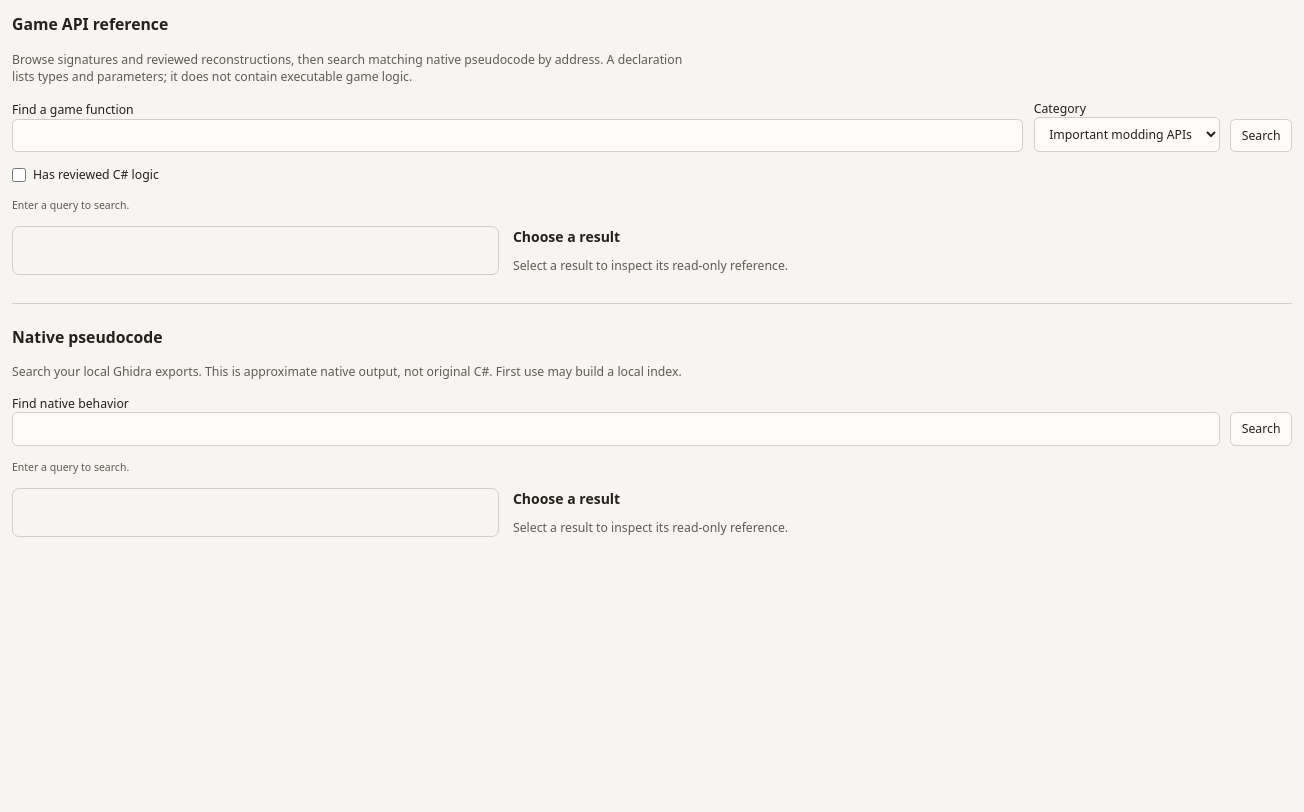
Test: API declaration launches native search at its address
Step 1. Type "FireSliderBoost" into the search field labelled "Find a game function" → (518, 135), box [12,118,1023,152]
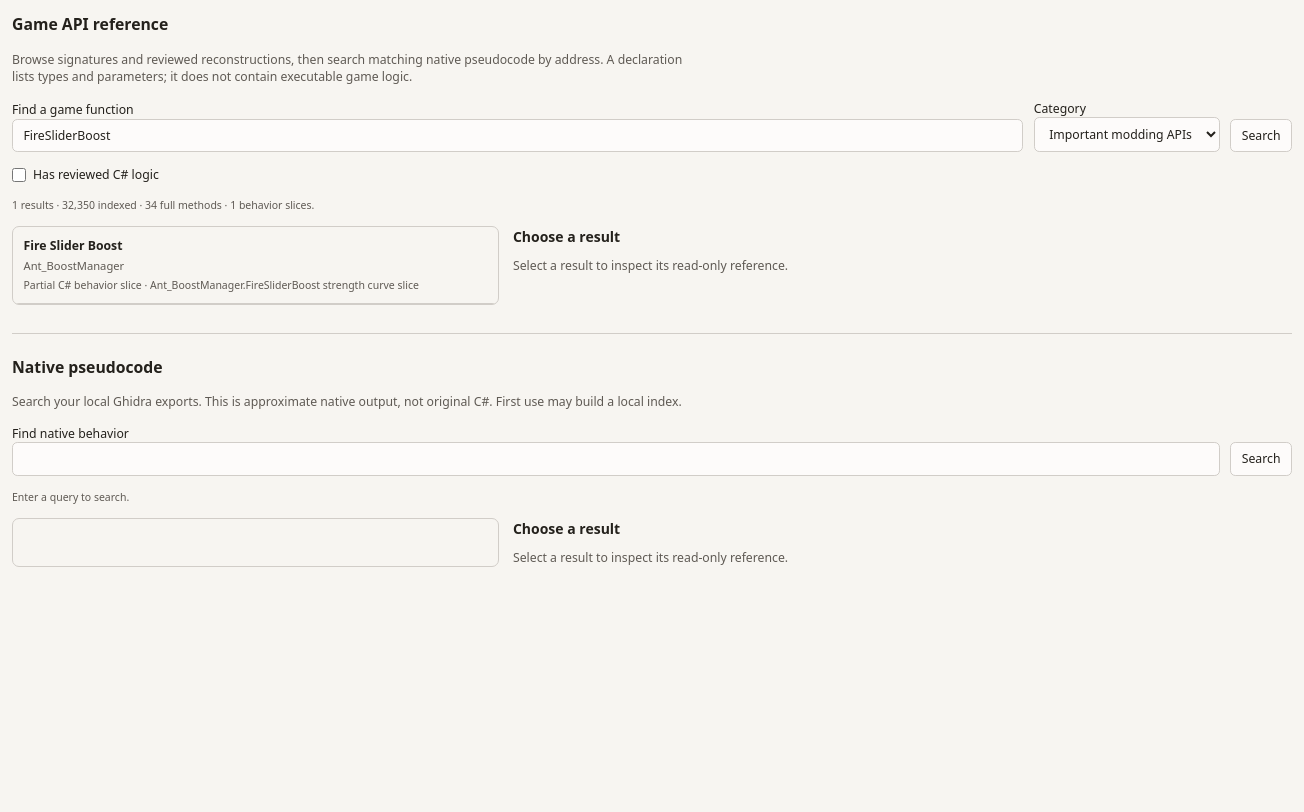
Step 2. Click the text "Fire Slider Boost" → (73, 246), box [24,237,122,254]
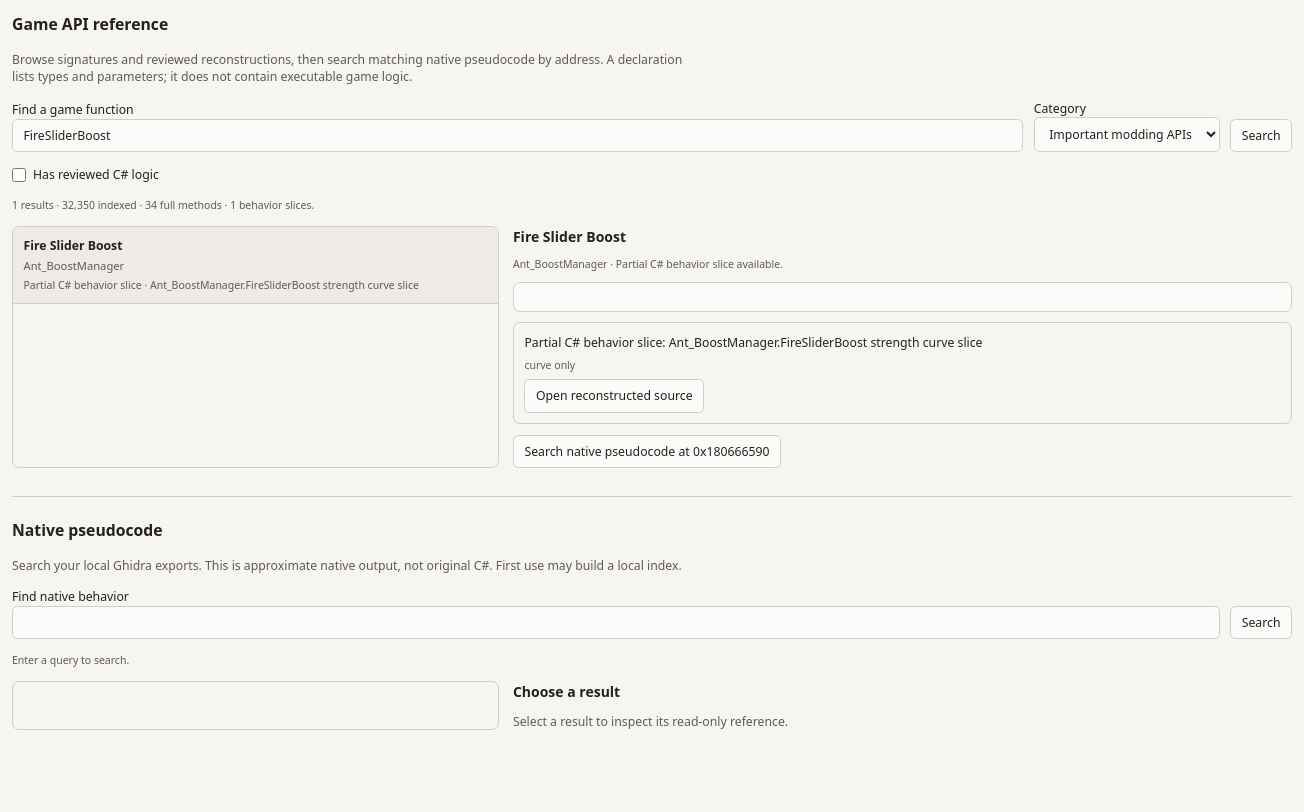
Step 3. Click the button "Search native pseudocode at 0x180666590" → (647, 451), box [513,434,781,468]
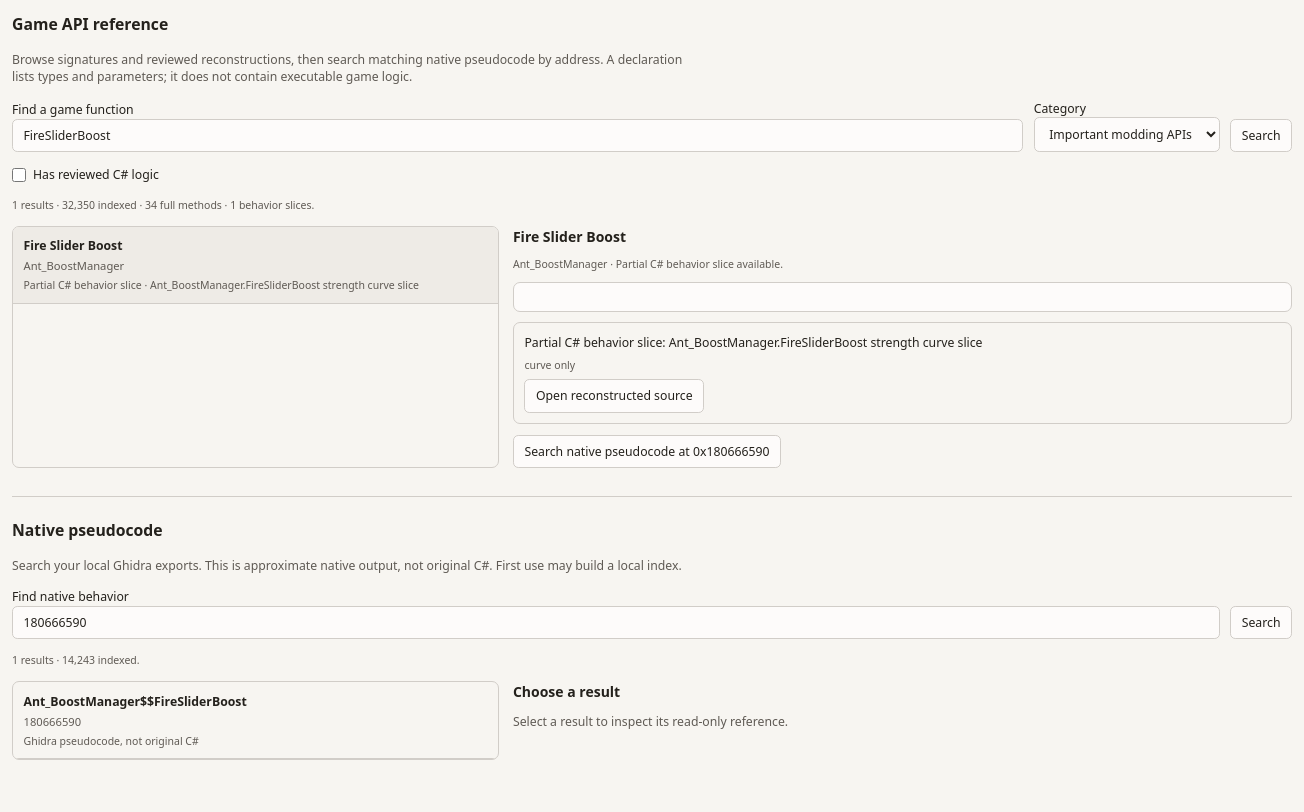
Expected: the text "Ant_BoostManager$$FireSliderBoost" is shown, [24,692,247,710]
